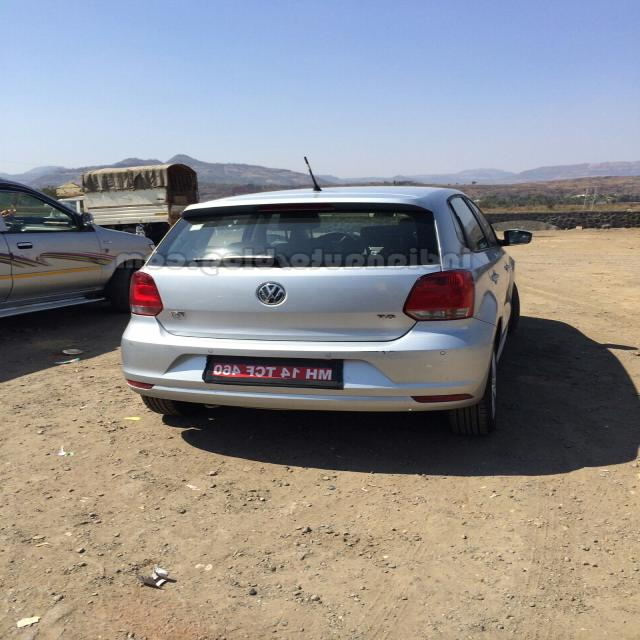number-plate: (195, 357, 348, 390)
